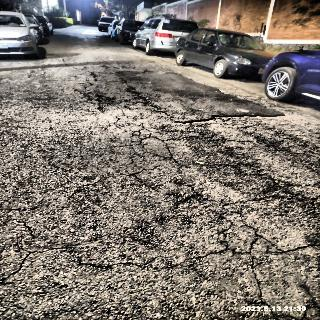alligator-crack: (113, 117, 320, 212), (245, 229, 320, 320)
crack: (0, 245, 228, 288)
